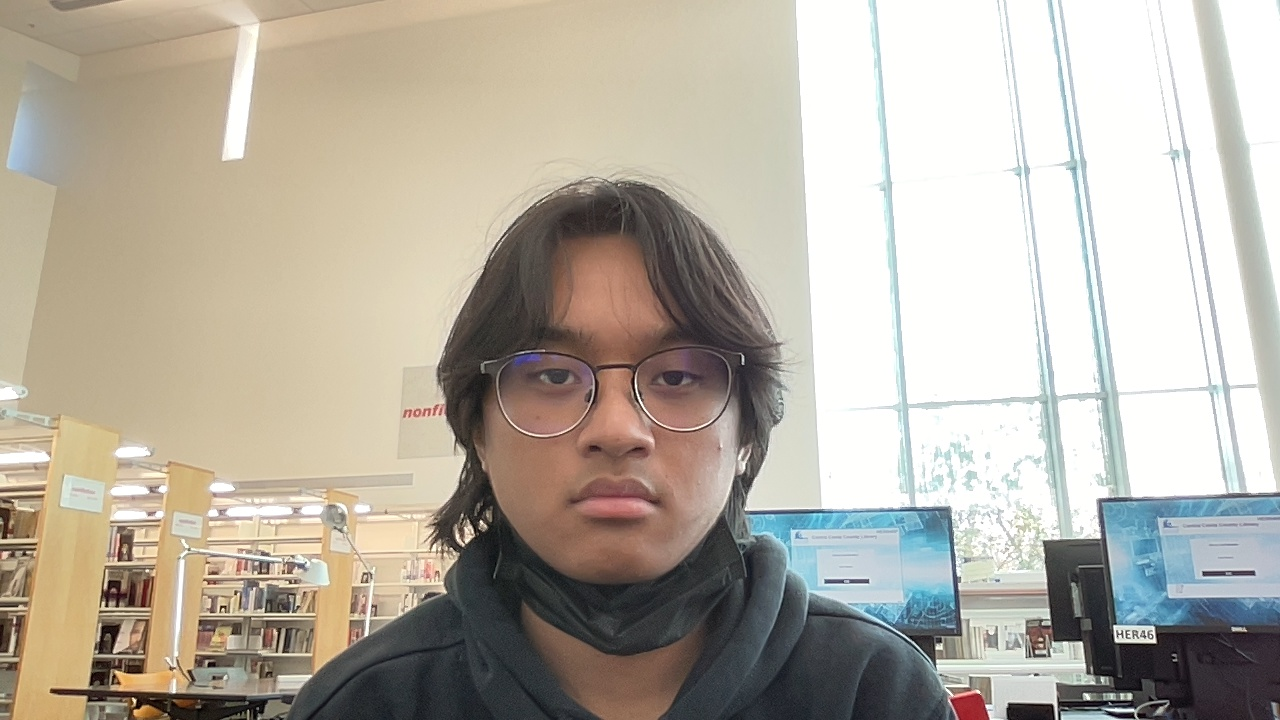neutral: (470, 231, 760, 589)
